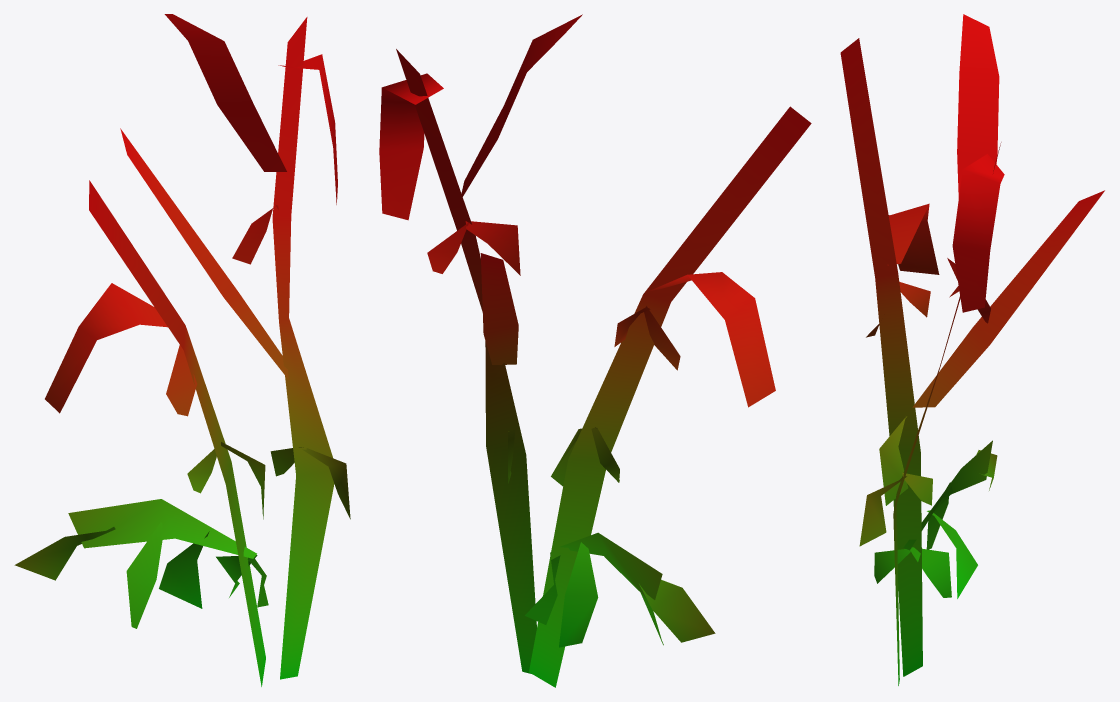
File: Var4_LOD2.fbx
The picture shows the model from 3 angles, left to right: view 1: azimuth 30°, elevation 25°; view 2: azimuth 150°, elevation 25°; view 3: azimuth 270°, elevation 25°; orthographic projection. The views are drawn at different scales.
Parts seen in each view (by area): view 1: _9321_Var4_LOD2; view 2: _9321_Var4_LOD2; view 3: _9321_Var4_LOD2.
Part boxes in pixels (x1,y1,x2,y2): _9321_Var4_LOD2: (14, 14, 350, 686); _9321_Var4_LOD2: (379, 14, 811, 687); _9321_Var4_LOD2: (840, 14, 1104, 685).
Size of the model in its own units: 27.81 by 54.44 by 20.55.
